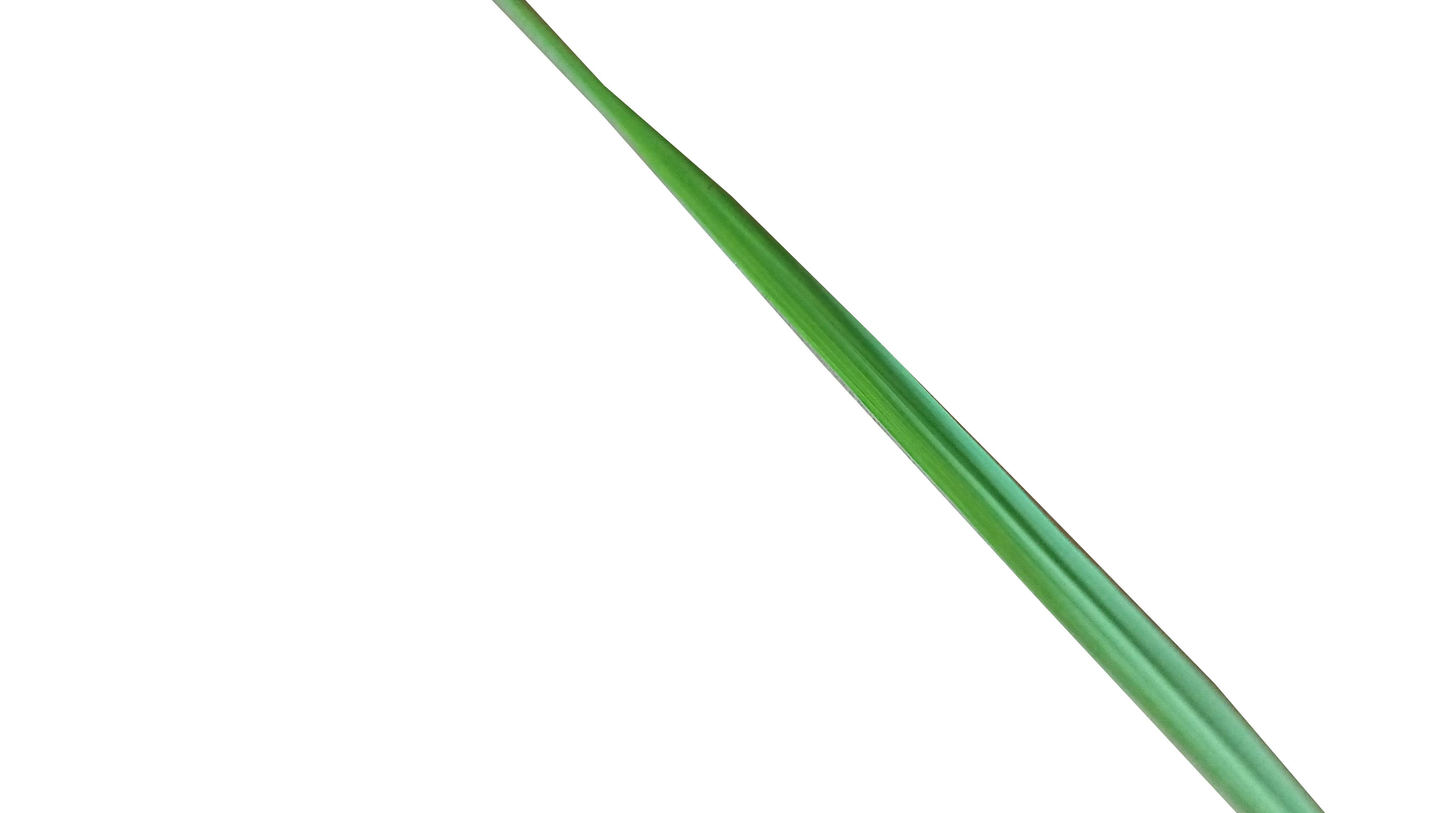Healthy: (480, 0, 1324, 813)
